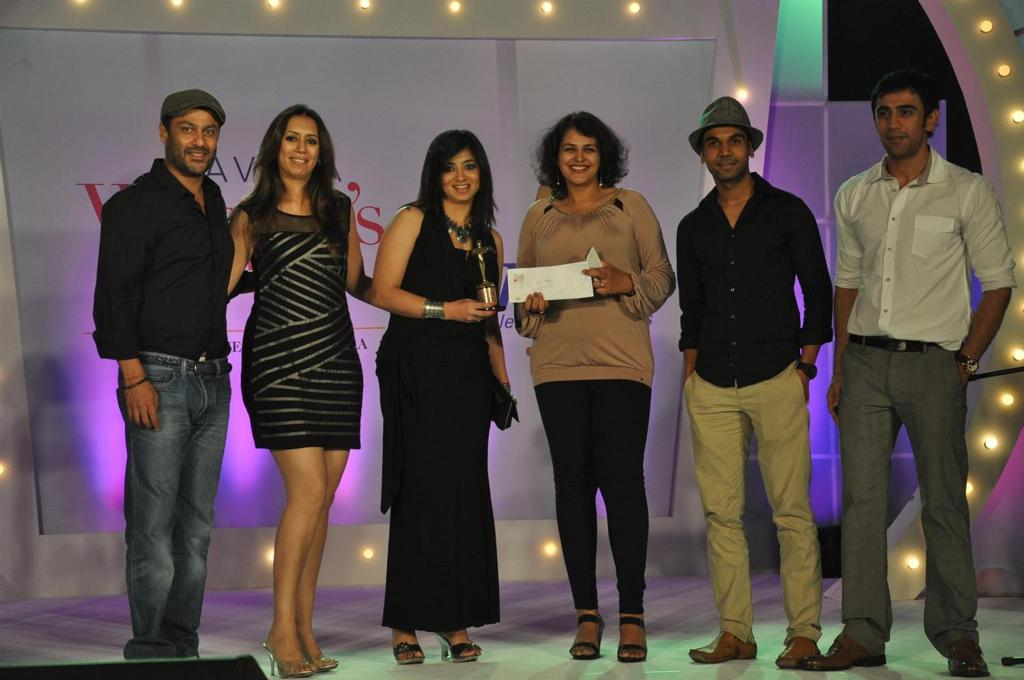face: (167, 107, 217, 173), (874, 94, 922, 155), (277, 115, 320, 176), (703, 125, 746, 178), (557, 131, 599, 184), (439, 150, 479, 199)
